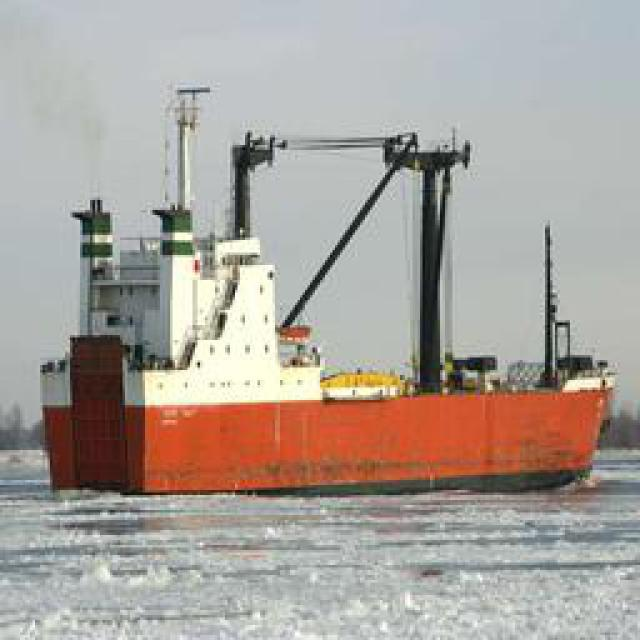Ship: (58, 176, 606, 499)
